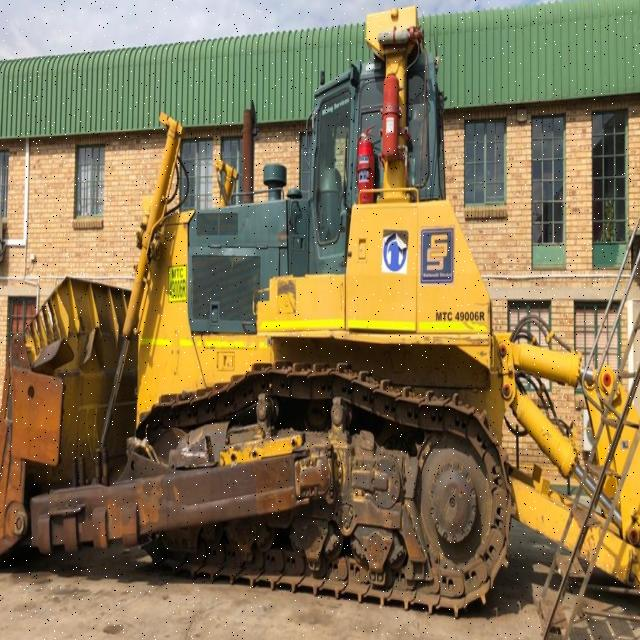Bulldozer: (16, 0, 640, 637)
